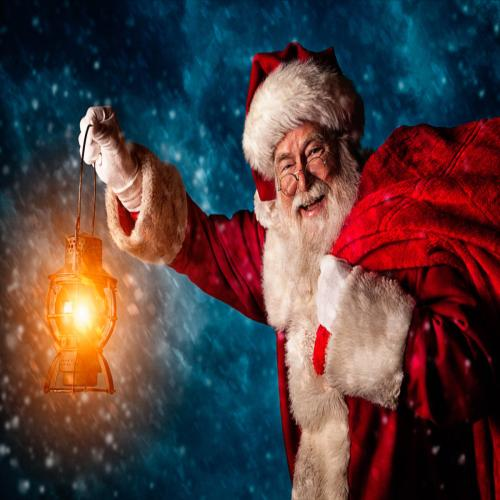Santa: (78, 42, 500, 499)
